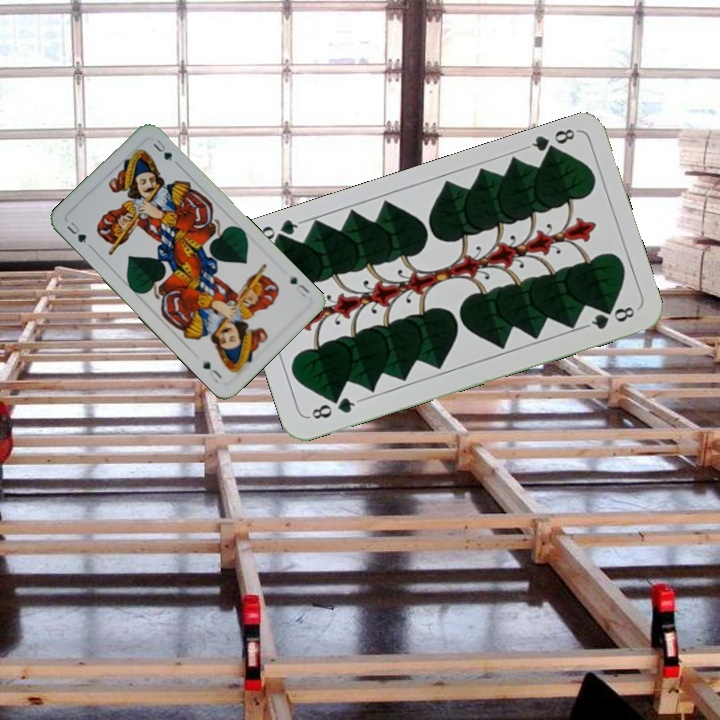G8: (522, 124, 580, 160), (305, 393, 362, 422)
GU: (62, 218, 90, 246), (286, 273, 312, 300)
